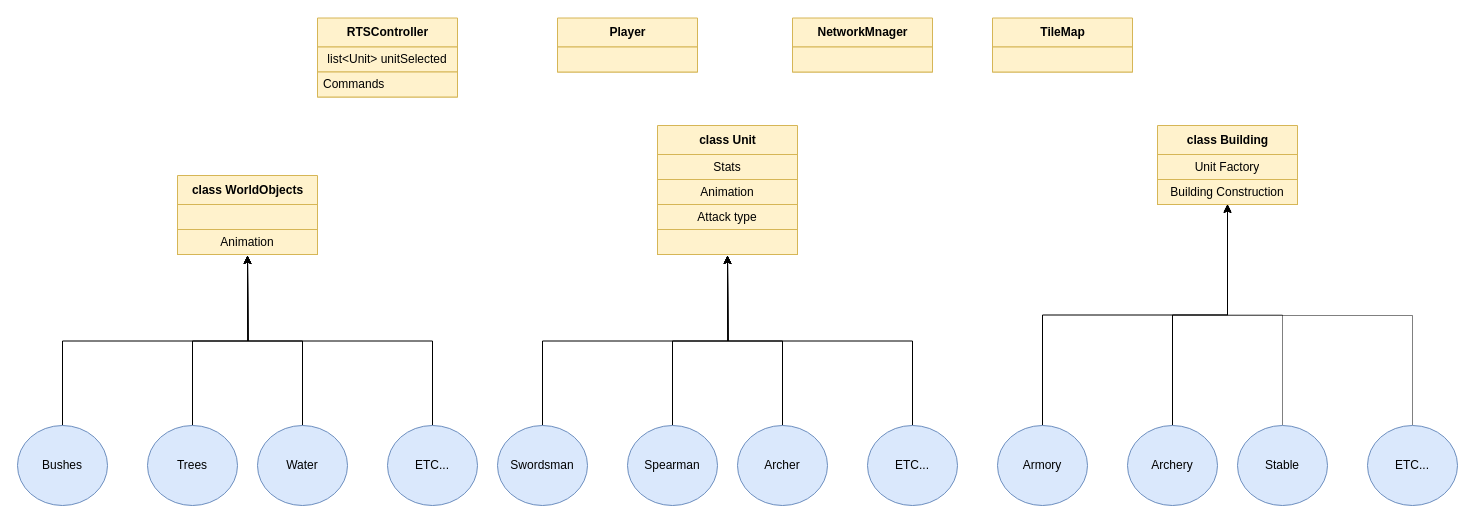
The diagram is 1475 pixels wide and 523 high, and some of its shapes have lost their labels. Each missing label, with the centre of its shape:
"Effects" belongs at [247,217].
"Nav Mash" belongs at [727,241].
"Players" belongs at [862,59].
"Resources" belongs at [627,59].
"World tiles" belongs at [1062,59].
